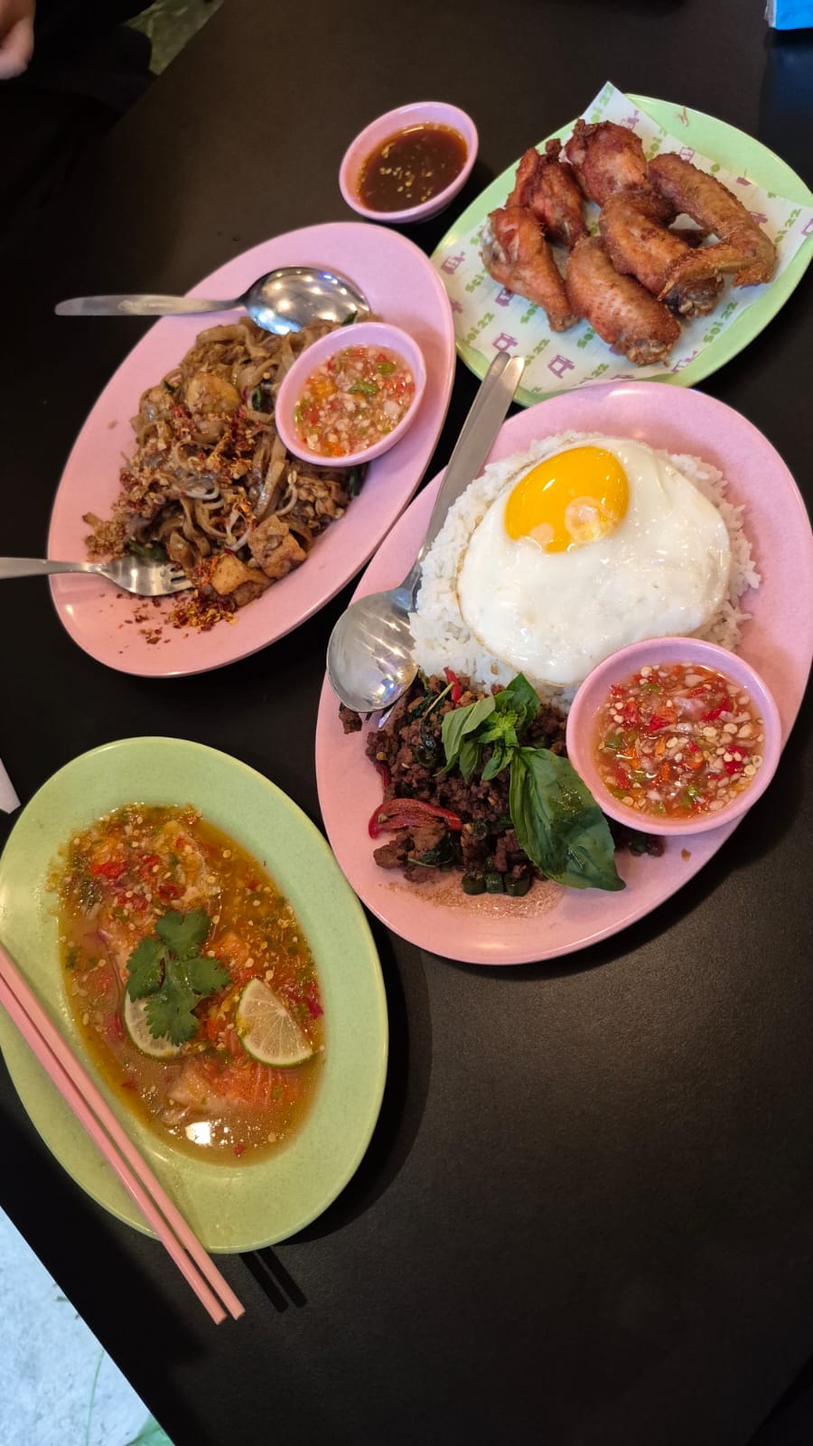buah_sayur_lainnya: (455, 696, 618, 898)
daging: (502, 150, 771, 356)
telur: (506, 461, 699, 647)
